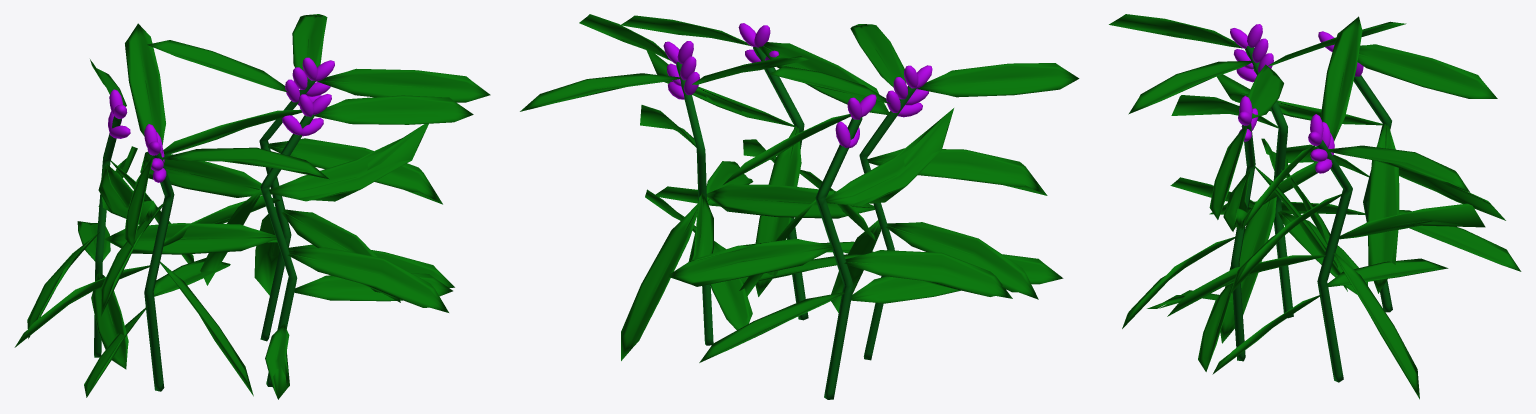
Rendered from Lavande_Croissance_2.fbx.
3 renders of one model, left to right at view 1: azimuth 30°, elevation 25°; view 2: azimuth 150°, elevation 25°; view 3: azimuth 270°, elevation 25°, orthographic. The views are drawn at different scales.
Visible parts, largest first — view 1: Plane.003, Plane.005, Plane.014, Plane.006, Plane.007, Plane.036, Plane.013, Plane.015, Plane.020, Plane.037, Plane.012, Plane.017 (+21 smaller); view 2: Plane.027, Plane.023, Plane.033, Plane.025, Plane.031, Plane.034, Plane.032, Plane.016, Plane.019, Plane.010, Plane.008, Plane.018 (+22 smaller); view 3: Plane.029, Plane.028, Plane.017, Plane.009, Plane.015, Plane.016, Plane.018, Plane.035, Plane.020, Plane.037, Plane.022, Plane.033 (+23 smaller).
Boxes of the visible parts, box(x1,y1,x2,y2) form: Plane.003: box(287, 247, 448, 312); Plane.005: box(269, 123, 428, 201); Plane.014: box(317, 68, 490, 102); Plane.006: box(314, 95, 473, 124); Plane.007: box(104, 223, 276, 254); Plane.036: box(125, 23, 165, 144); Plane.013: box(268, 138, 442, 204); Plane.015: box(140, 151, 271, 197); Plane.020: box(144, 152, 174, 391); Plane.037: box(161, 147, 329, 179); Plane.012: box(281, 209, 400, 302); Plane.017: box(147, 40, 287, 92); Plane.027: box(667, 238, 833, 286); Plane.023: box(844, 250, 1012, 298); Plane.033: box(917, 63, 1079, 97); Plane.025: box(825, 108, 953, 205); Plane.031: box(885, 222, 1038, 299); Plane.034: box(707, 184, 874, 218); Plane.032: box(867, 148, 1047, 195); Plane.016: box(621, 203, 698, 360); Plane.019: box(815, 117, 862, 399); Plane.010: box(758, 42, 890, 115); Plane.008: box(755, 126, 801, 296); Plane.018: box(520, 73, 680, 111); Plane.029: box(1357, 44, 1497, 98); Plane.028: box(1367, 123, 1399, 293); Plane.017: box(1320, 16, 1362, 141); Plane.009: box(1316, 140, 1352, 382); Plane.015: box(1339, 203, 1485, 239); Plane.016: box(1333, 253, 1419, 399); Plane.018: box(1326, 145, 1469, 192); Plane.035: box(1220, 197, 1276, 343); Plane.020: box(1245, 46, 1293, 318); Plane.037: box(1128, 60, 1252, 114); Plane.022: box(1399, 210, 1521, 271); Plane.033: box(1109, 14, 1242, 48).
Bounding box in the file's own units: 428 × 276 × 332.
